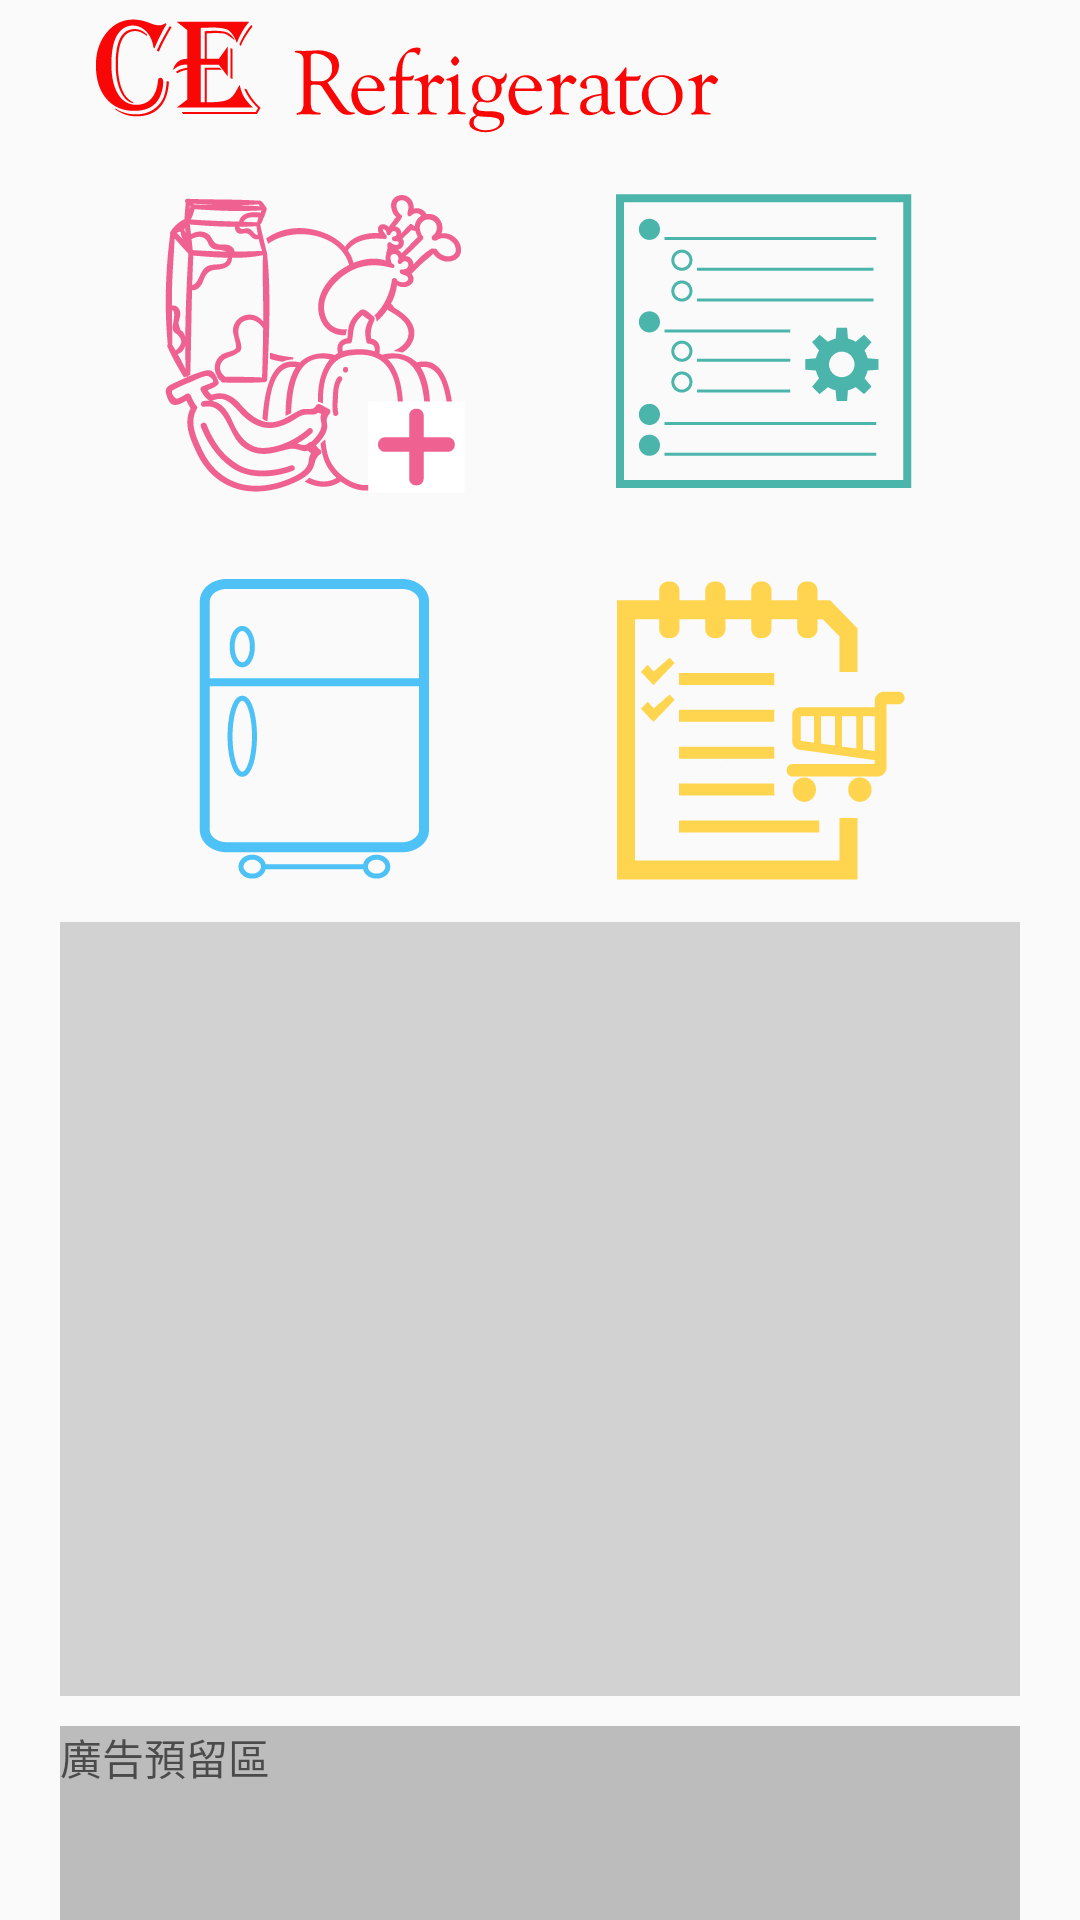

Where to tap for icons on this 1080*1920 app screen, as (x,y):
category: (764,341)
food: (313,343)
refrigerator: (314,729)
shoppinglist: (761,730)
